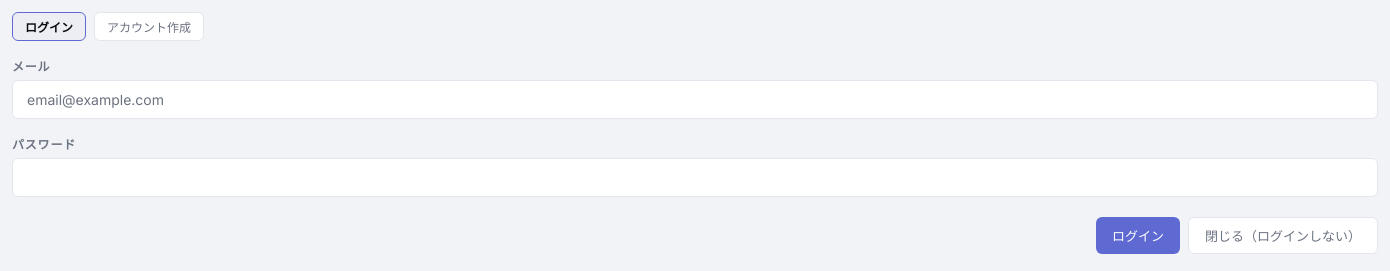
Test: ProfileLoginForm › switches to アカウント作成 when clicked
Click the button "アカウント作成" at (149, 26), box [94,12,204,41]
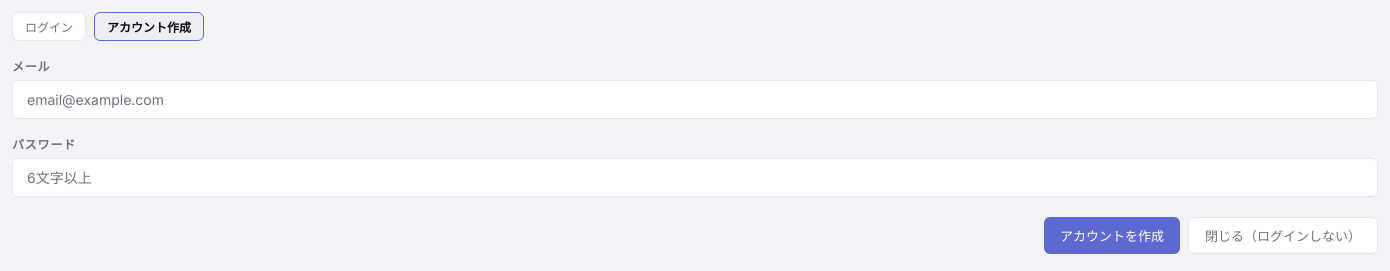
Expected: the button "アカウントを作成" is shown, [1044,217,1180,254]
